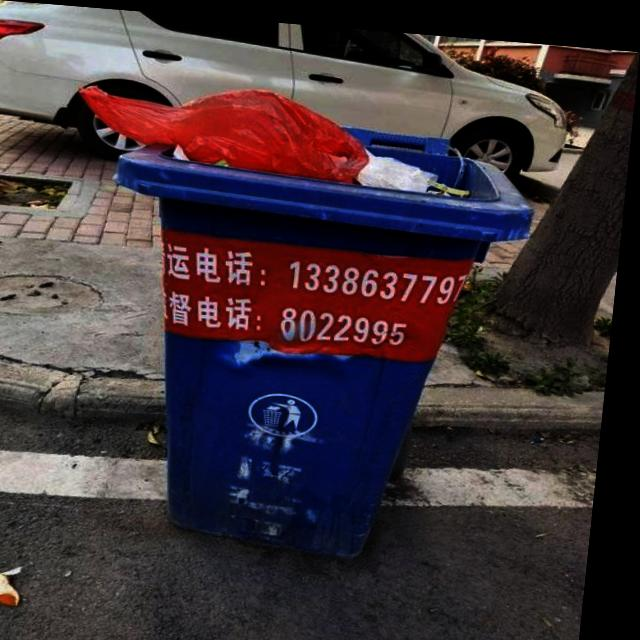overflow: (41, 74, 546, 561)
